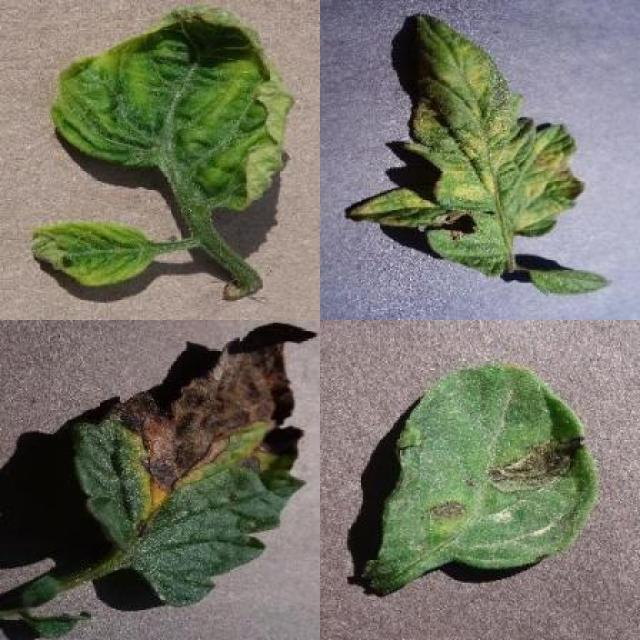Early Blight: (77, 334, 303, 606), (358, 361, 598, 593)
Leaf Mold: (346, 12, 586, 268)
Yellow Leaf Curl Virus: (54, 4, 295, 212), (30, 219, 156, 287)
